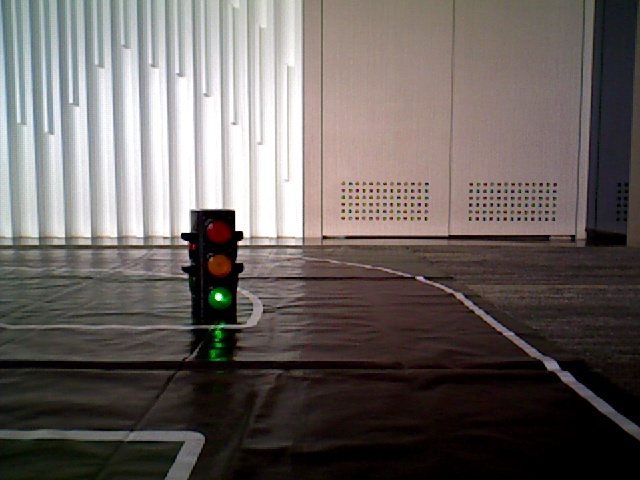green: (198, 214, 232, 315)
